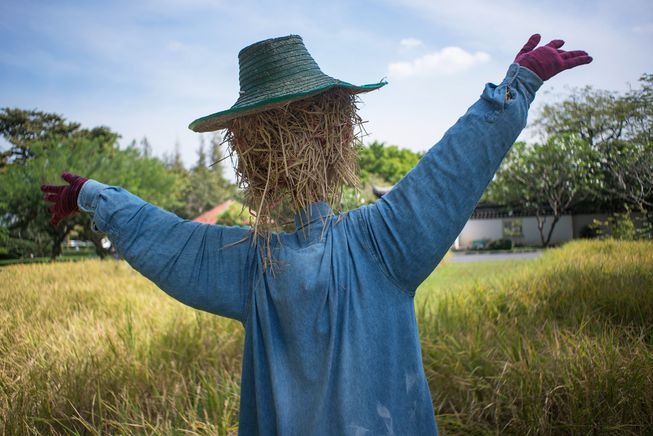person-like: (35, 21, 598, 435)
